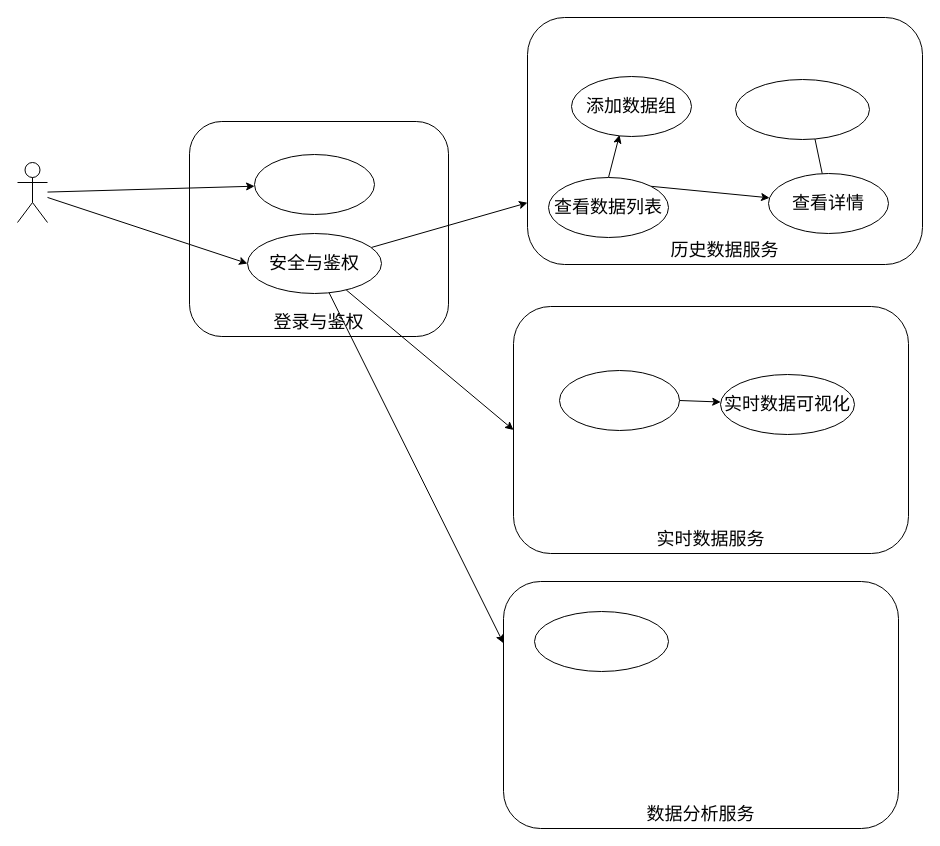
This 940x846 diagram has some shape labels left out. The centre of each missing label's shape, as x and y in pixels:
"User" goes at point (32, 192).
"历史数据可视化" goes at point (802, 109).
"数据分析" goes at point (601, 641).
"登录" goes at point (314, 184).
"获取实时数据" goes at point (619, 400).
